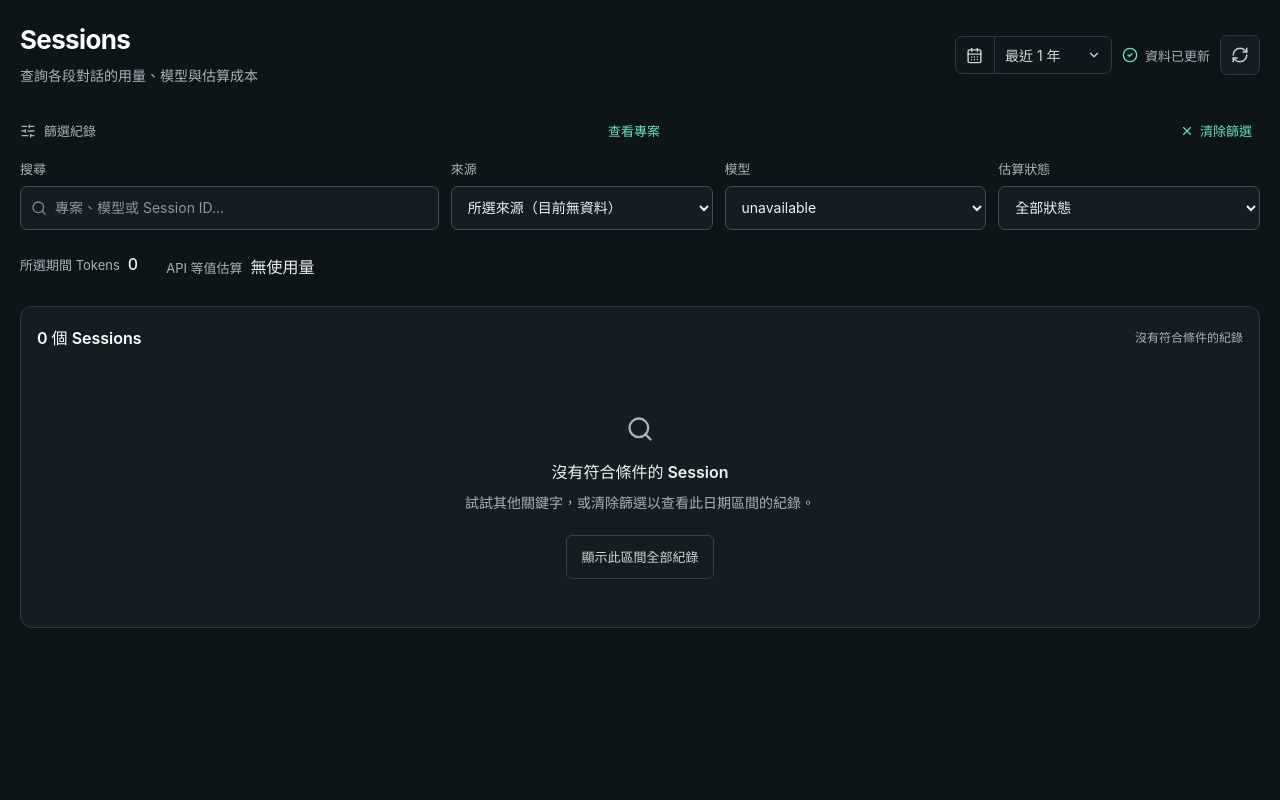
Test: retains unavailable URL filters and offers a way to clear them
The width and height of the screenshot is (1280, 800).
Expected: the dropdown labelled "模型" shows "unavailable", x1=724 y1=186 x2=986 y2=230
Expected: the dropdown labelled "來源" shows "所選來源（目前無資料）", x1=451 y1=186 x2=712 y2=230
Click the button "顯示此區間全部紀錄" at [640, 557], box x1=566 y1=535 x2=714 y2=579
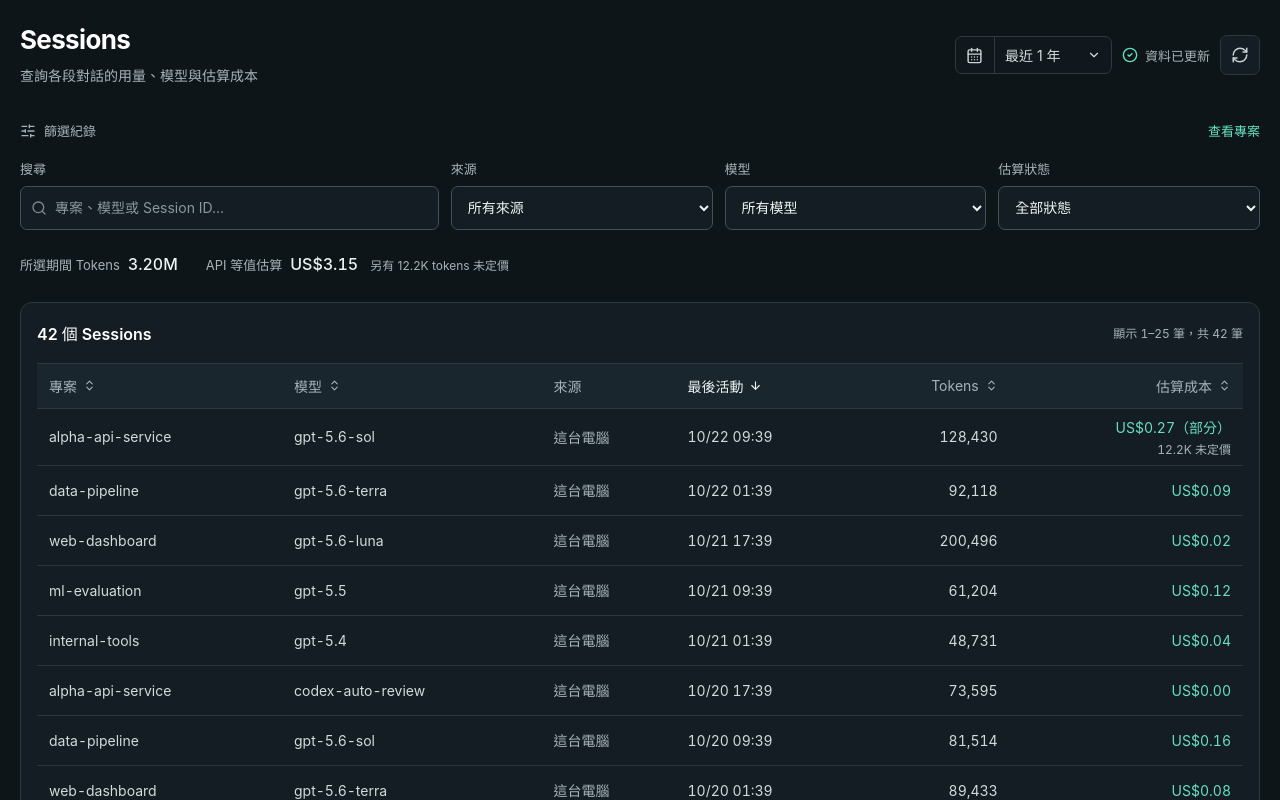
Result: the heading "42 個 Sessions" is shown at x1=37 y1=321 x2=152 y2=345
